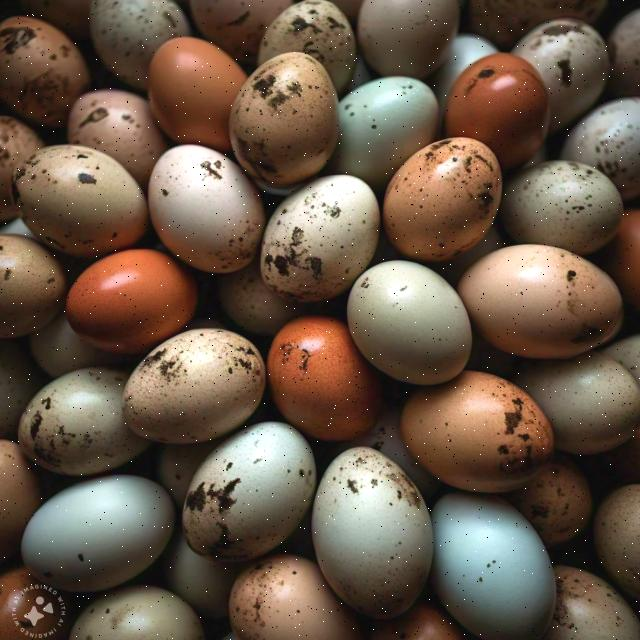Dirt Stained Egg: (236, 163, 413, 312), (391, 377, 569, 523), (312, 425, 433, 624), (212, 40, 346, 204), (152, 421, 323, 547), (463, 246, 637, 368), (354, 129, 524, 237), (0, 142, 149, 258), (160, 315, 275, 446), (36, 359, 153, 464)
